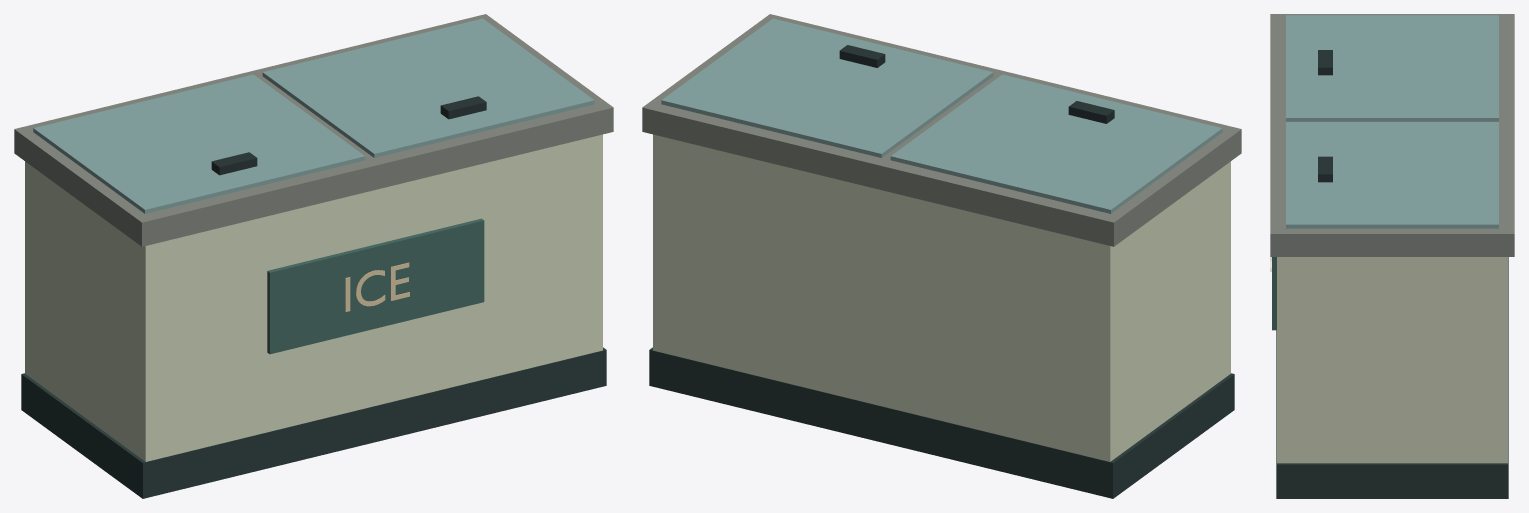
Rendered from chest_freezer.glb.
3 renders of one model, left to right at view 1: azimuth 30°, elevation 25°; view 2: azimuth 150°, elevation 25°; view 3: azimuth 270°, elevation 25°, orthographic. The views are drawn at different scales.
Parts seen in each view (by area): view 1: Commercial freezer body, Sliding top panel, Sliding top panel.001, Top aluminum ledge, Front bumper kick plate, Old freezer sign, ICE, Lid pull.001, Lid pull; view 2: Commercial freezer body, Sliding top panel, Sliding top panel.001, Top aluminum ledge, Front bumper kick plate, Lid pull.001, Lid pull; view 3: Commercial freezer body, Sliding top panel, Sliding top panel.001, Top aluminum ledge, Front bumper kick plate, Lid pull.001, Lid pull, Old freezer sign.
Part boxes in pixels (x1,y1,x2,y2): Commercial freezer body: (25, 134, 602, 461); Sliding top panel: (33, 74, 365, 213); Sliding top panel.001: (262, 18, 594, 157); Top aluminum ledge: (14, 14, 613, 246); Front bumper kick plate: (21, 347, 606, 498); Old freezer sign: (267, 218, 484, 354); ICE: (345, 262, 409, 312); Lid pull.001: (440, 96, 486, 119); Lid pull: (211, 152, 257, 175); Commercial freezer body: (653, 134, 1230, 461); Sliding top panel: (890, 74, 1222, 213); Sliding top panel.001: (661, 18, 993, 157); Top aluminum ledge: (642, 14, 1241, 246); Front bumper kick plate: (649, 347, 1234, 498); Lid pull.001: (839, 45, 885, 67); Lid pull: (1068, 101, 1114, 123); Commercial freezer body: (1277, 257, 1507, 463); Sliding top panel: (1286, 15, 1498, 121); Sliding top panel.001: (1286, 122, 1498, 228); Top aluminum ledge: (1270, 14, 1514, 256); Front bumper kick plate: (1276, 257, 1508, 498); Lid pull.001: (1318, 156, 1332, 182); Lid pull: (1318, 50, 1332, 75); Old freezer sign: (1272, 257, 1276, 330).
Size of the model in its own units: 1.57 by 0.927 by 0.736.
